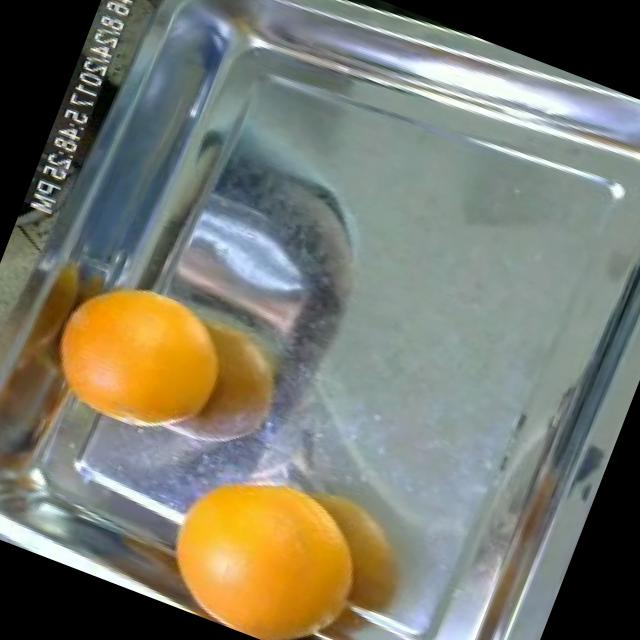Fruit: (17, 241, 266, 464), (131, 429, 383, 640)
